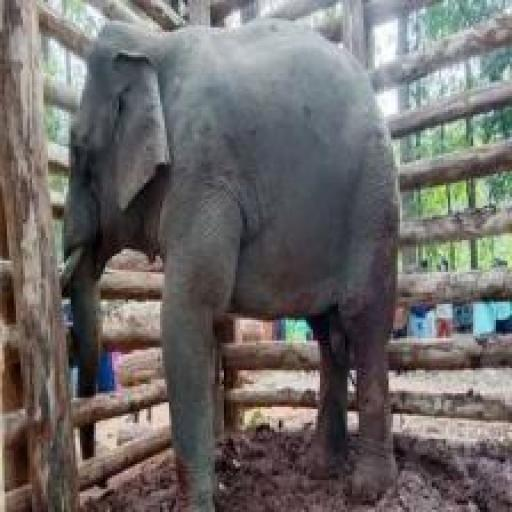Elephant: (60, 16, 377, 512)
